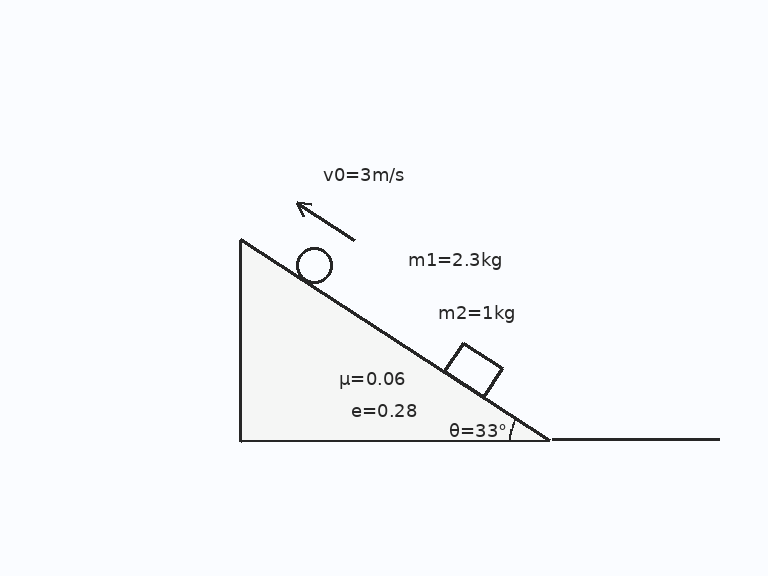ball: (294, 245, 334, 285)
block: (442, 341, 504, 399)
ramp: (239, 237, 552, 442)
